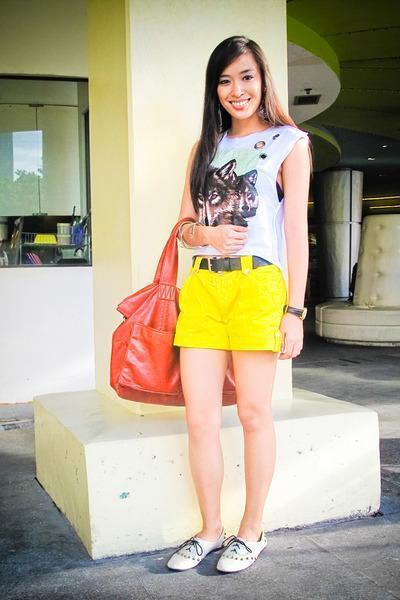bag: (110, 218, 194, 405)
shirt: (193, 126, 309, 267)
shoe: (168, 532, 266, 570)
shorts: (174, 255, 288, 351)
